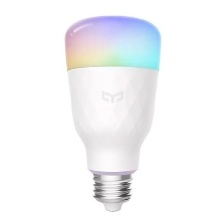light_bulb: (55, 13, 164, 216)
